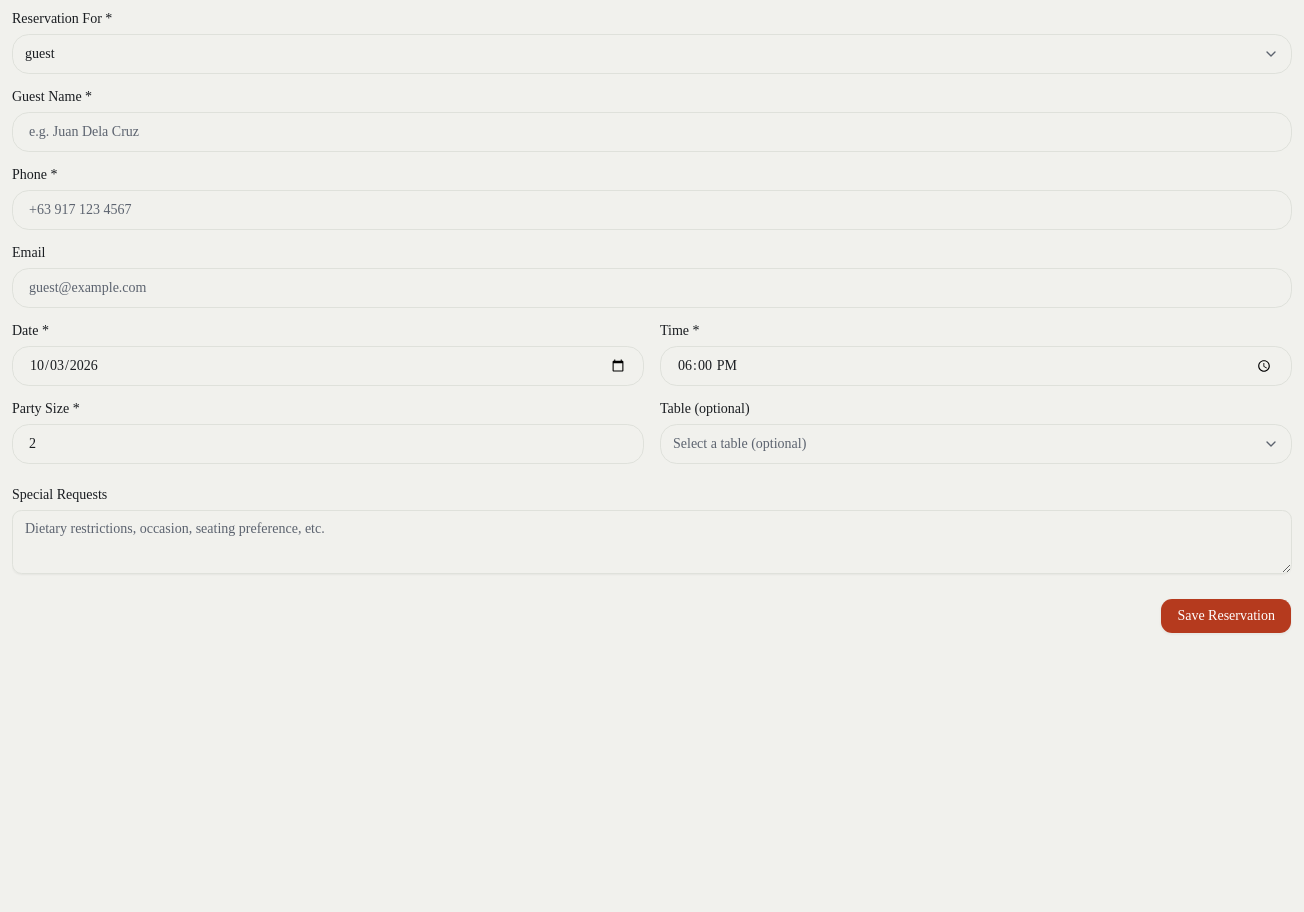
Test: ReservationForm table availability › excludes needs_cleaning, maintenance and archived tables and never promises auto-assign
Step 1. Click the dropdown labelled "Select a table (optional) ▼" → (740, 444), box [660,424,1292,464]
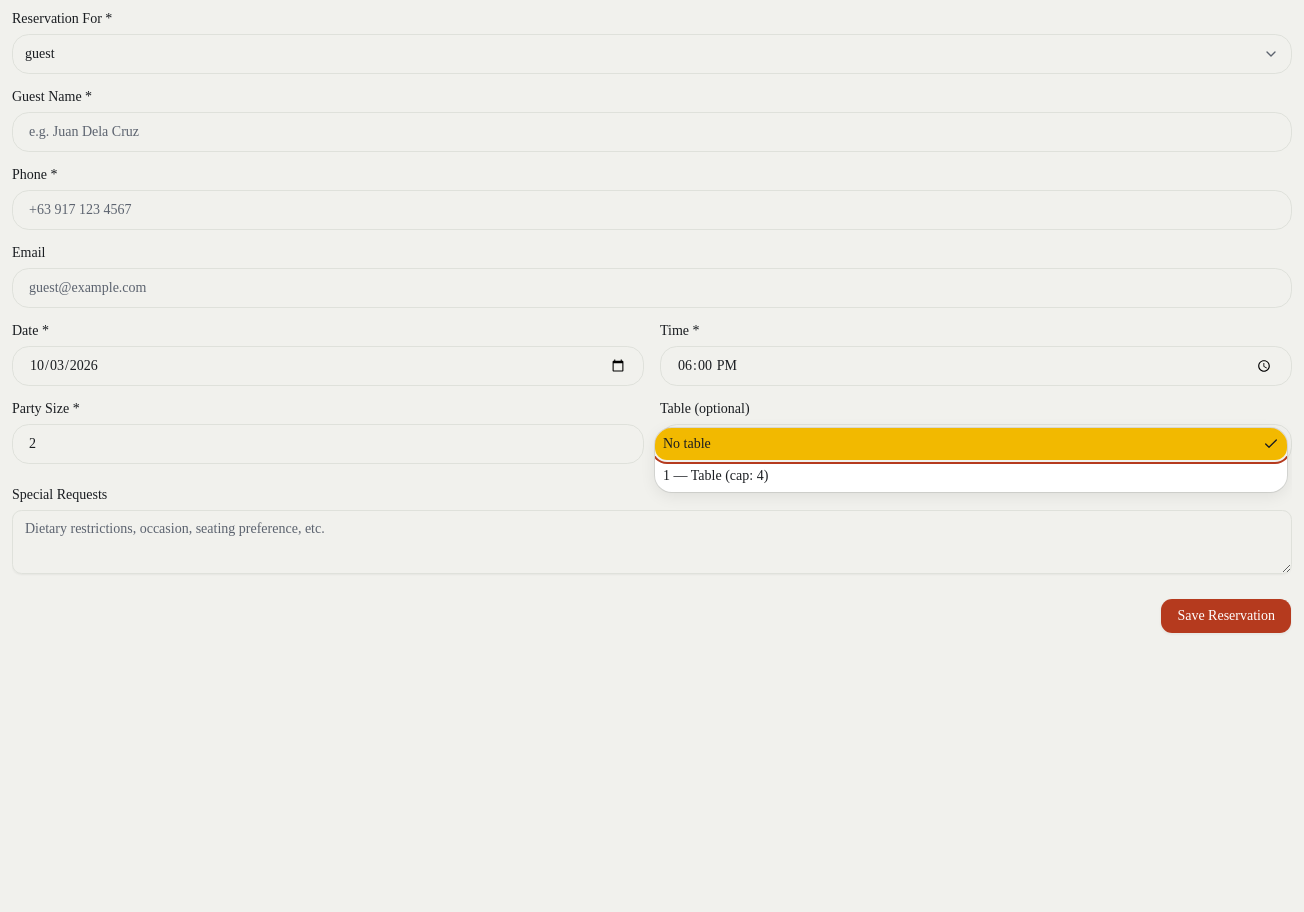
Expected: the option "1 — Table (cap: 4)" is shown, [663,468,768,483]
Expected: the option "No table" is shown, [655,428,1287,460]
